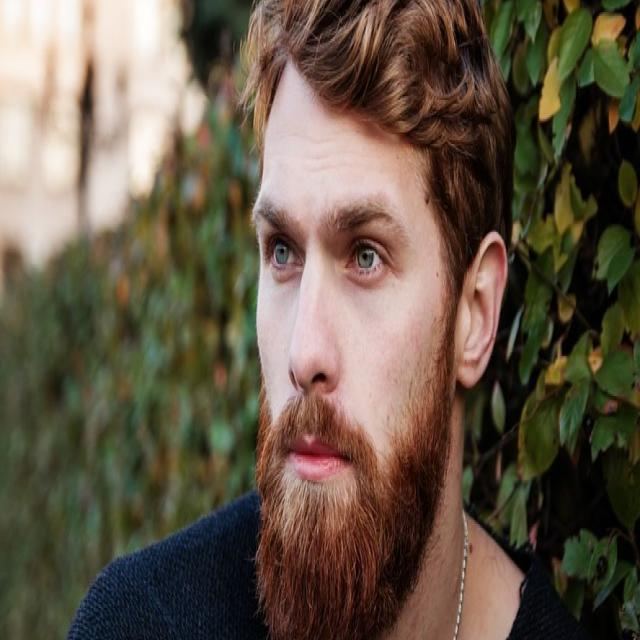beard: (253, 316, 452, 637)
hair: (250, 1, 506, 267)
